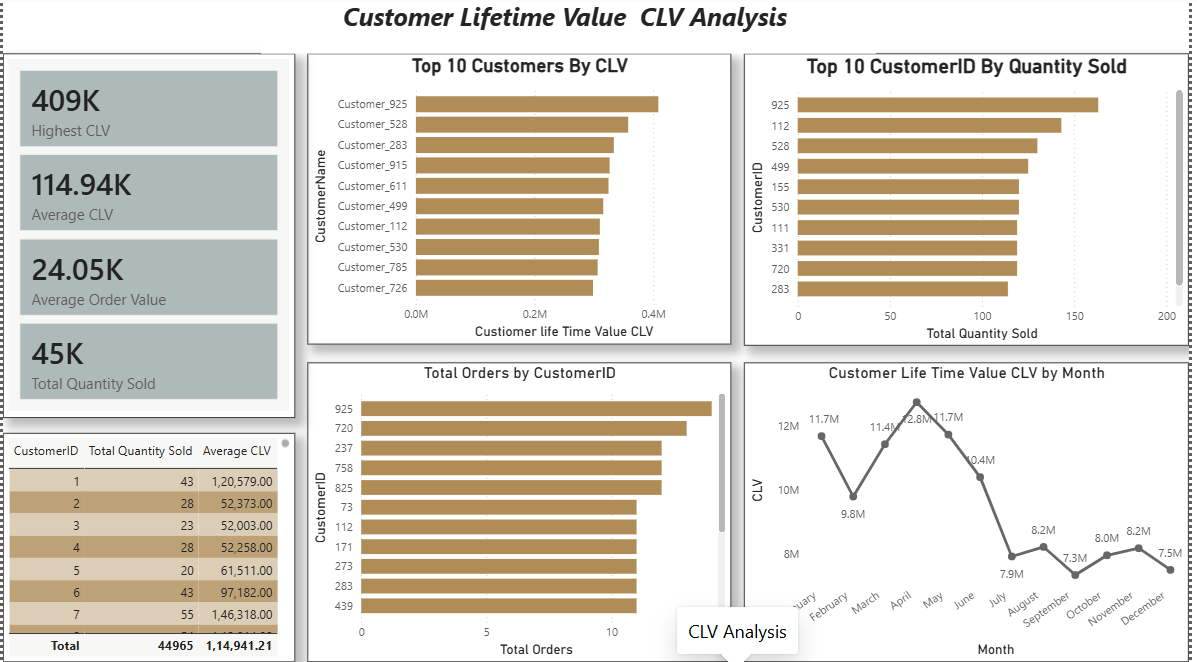

This screenshot's page, from the dashboard's own definition file:
{"tool":"powerbi","page":{"name":"CLV Analysis","canvas":[1280,720],"ordinal":2},"visuals":[{"type":"tableEx","fields":{"Values":["Customers.CustomerID","Order_Details.Total Quantity Sold","Customers.Average CLV"]},"box":[0,472.4,315.6,247.6],"z":0},{"type":"barChart","title":"Top 10  Customers By CLV","fields":{"Category":["Customers.CustomerName"],"Y":["Customers.CLV"]},"box":[328.8,62.4,457.3,313.7],"z":1000},{"type":"barChart","title":"Top 10 CustomerID By Quantity Sold","fields":{"Category":["Customers.CustomerID"],"Y":["Order_Details.Total Quantity Sold"]},"box":[799.4,62.4,480,315.6],"z":2000},{"type":"barChart","fields":{"Category":["Customers.CustomerID"],"Y":["Orders.Total Orders"]},"box":[328.8,396.9,457.3,323.2],"z":3000},{"type":"lineChart","title":"Customer Life Time Value CLV by Month","fields":{"Category":["Orders.OrderDate.Variation.Date Hierarchy.Month"],"Y":["Customers.CLV"]},"box":[799.4,396.9,480,323.2],"z":4000},{"type":"cardVisual","fields":{"Data":["Customers.Highest CLV","Customers.Average CLV","Orders.Average Order Value","Order_Details.Total Quantity Sold"]},"box":[0,62.4,315.6,393.1],"z":5000},{"type":"textbox","box":[278.5,0,663.9,63.1],"z":5001}]}

Visuals, with their boxes in screenshot pixels (x1, y1, x2, y2), scaled from the page's 1280x720 canvas onto the 1197x662 screenshot:
tableEx - Customers.CustomerID x Order_Details.Total Quantity Sold: <region>0, 434, 295, 661</region>
"Top 10  Customers By CLV" barChart: <region>307, 57, 735, 346</region>
"Top 10 CustomerID By Quantity Sold" barChart: <region>748, 57, 1196, 348</region>
barChart - Customers.CustomerID x Orders.Total Orders: <region>307, 365, 735, 661</region>
"Customer Life Time Value CLV by Month" lineChart: <region>748, 365, 1196, 661</region>
cardVisual - Customers.Highest CLV x Customers.Average CLV: <region>0, 57, 295, 419</region>
textbox: <region>260, 0, 881, 58</region>
